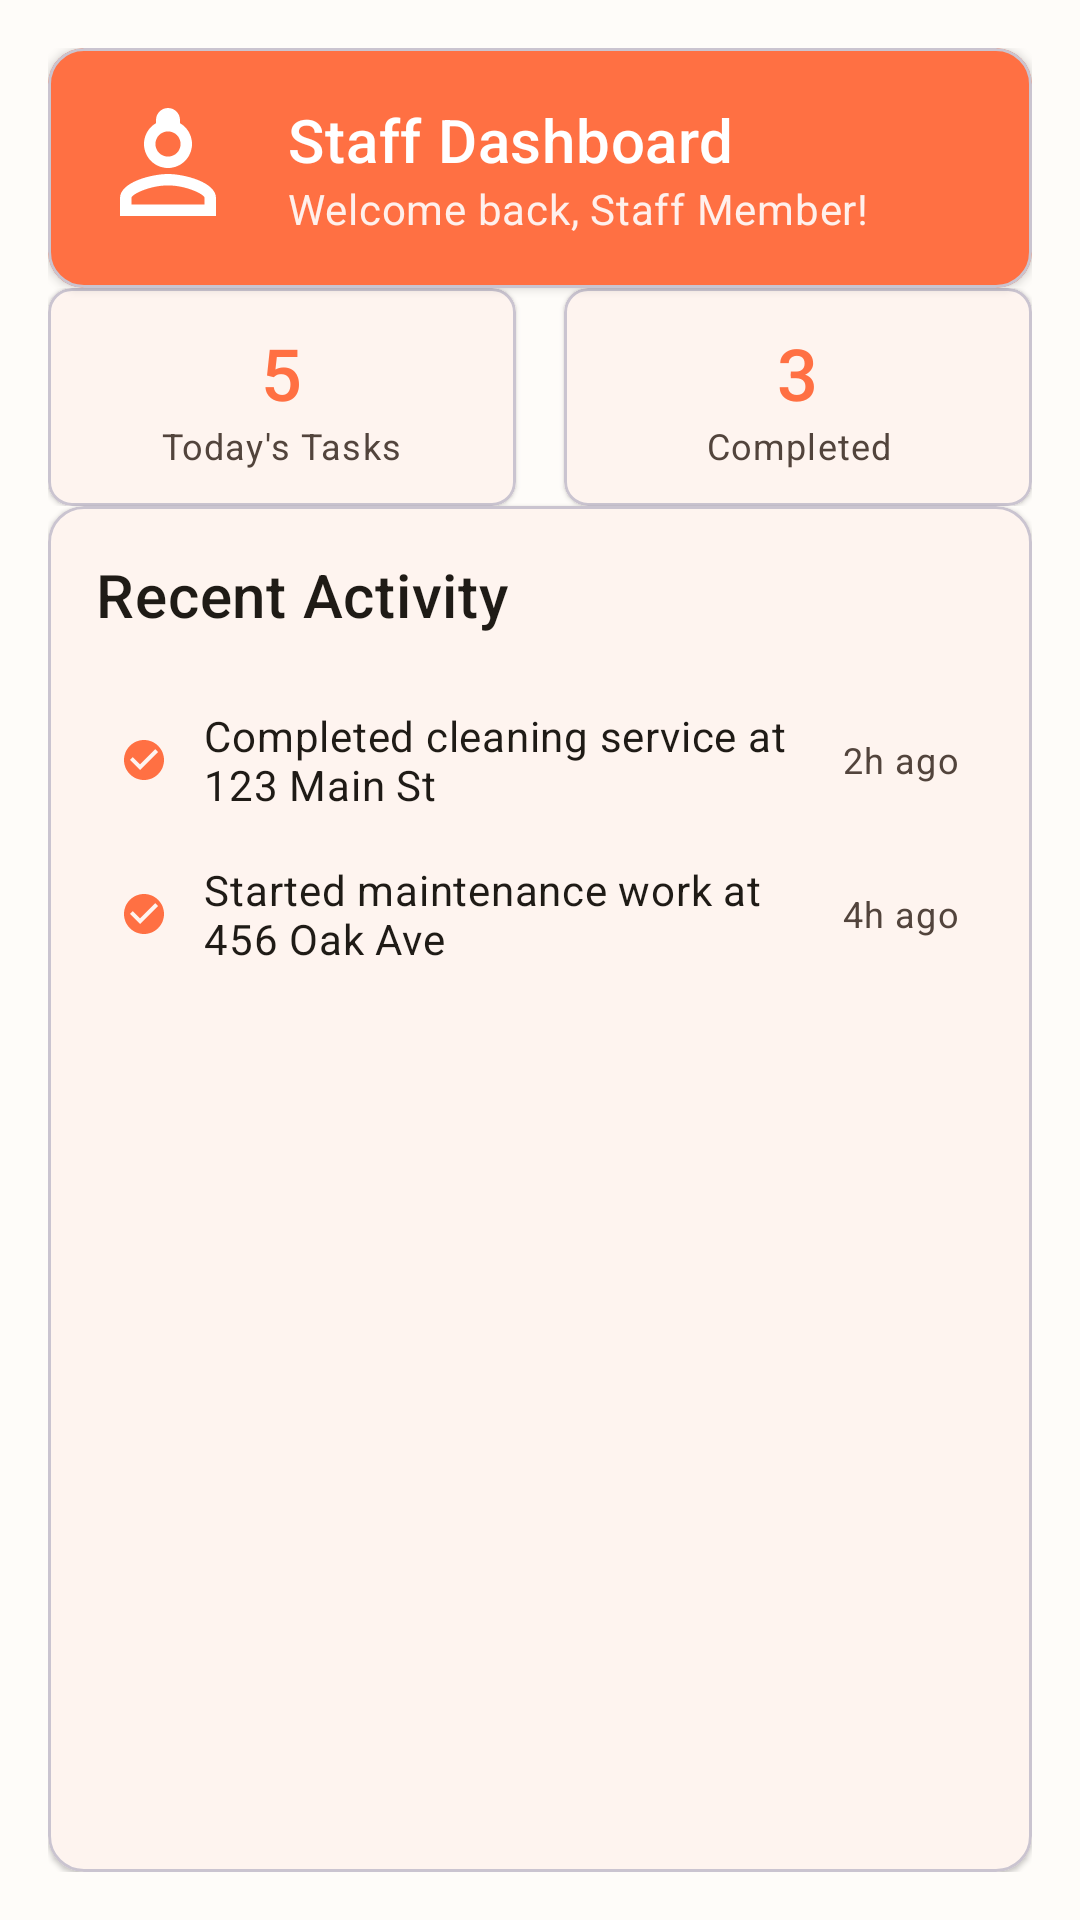

Icons on this 1080 × 1920 Android screen, each with its box as {"x1": x1, "y1": y1, "x2": x2, "y2": y2}:
check circle: {"x1": 124, "y1": 740, "x2": 164, "y2": 780}, {"x1": 124, "y1": 894, "x2": 164, "y2": 934}
worker: {"x1": 120, "y1": 108, "x2": 216, "y2": 216}
